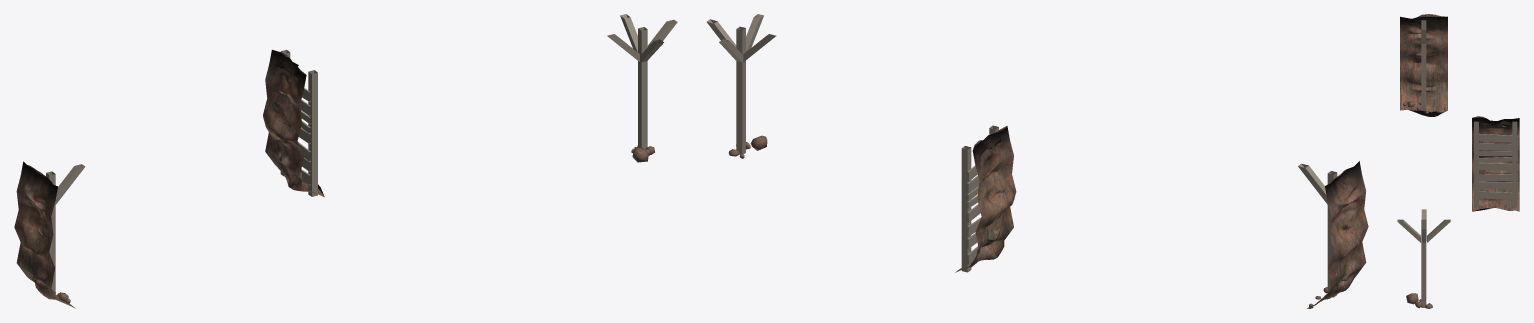
Rendered from cave_minewalls.glb.
The picture shows the model from 3 angles, left to right: view 1: azimuth 30°, elevation 25°; view 2: azimuth 150°, elevation 25°; view 3: azimuth 270°, elevation 25°; orthographic projection. The views are drawn at different scales.
Visible parts, largest first — view 1: wallwood, wallstud, basewall.002; view 2: wallwood, wallstud, basewall.002; view 3: wallstud, wallwood, basewall.002.
Part boxes in pixels (x1,y1,x2,y2): wallwood: [263, 49, 324, 197]; wallstud: [14, 161, 85, 308]; basewall.002: [607, 14, 677, 162]; wallwood: [955, 125, 1016, 272]; wallstud: [1298, 161, 1368, 308]; basewall.002: [706, 14, 776, 158]; wallstud: [1400, 14, 1447, 116]; wallwood: [1472, 116, 1519, 211]; basewall.002: [1397, 209, 1450, 308].
Size of the model in its own units: 21.52 by 4.36 by 5.12.
Materials: 3 (2 with a texture image).
